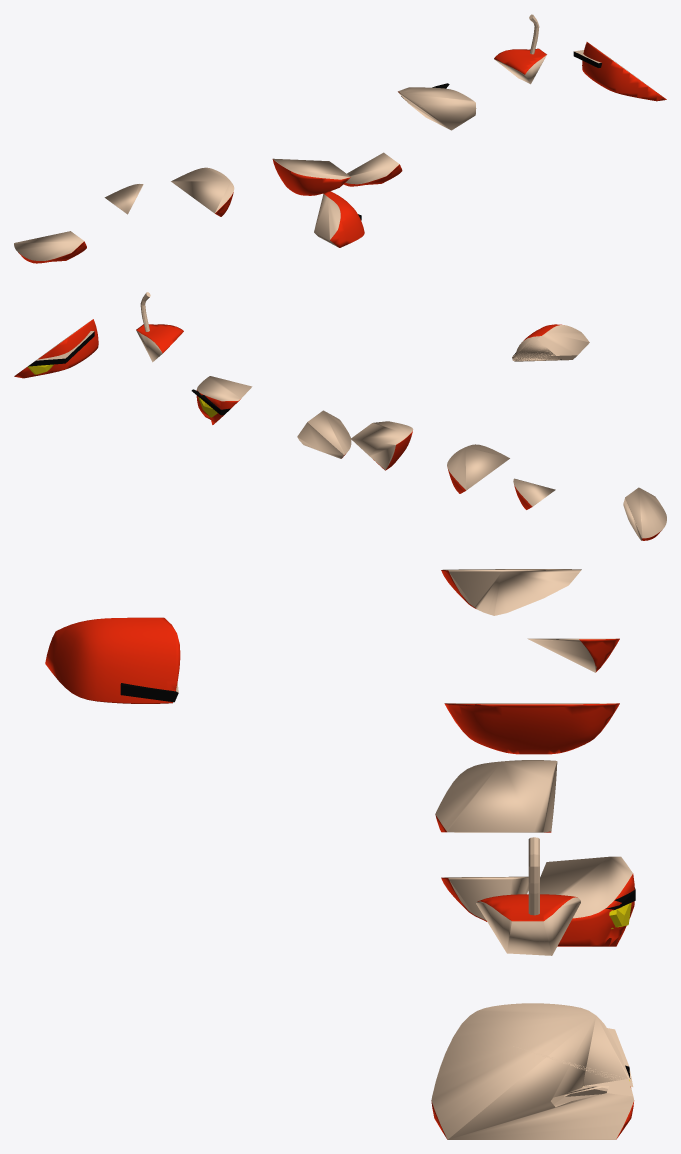
File: apple-pieces.fbx
The picture shows the model from 3 angles, top to bottom: view 1: azimuth 30°, elevation 25°; view 2: azimuth 150°, elevation 25°; view 3: azimuth 270°, elevation 25°; orthographic projection. The views are drawn at different scales.
Visible parts, largest first — view 1: p1, p9, p2, p4, p7, p5, p3, p6, p8; view 2: p4, p9, p2, p7, p6, p1, p5, p3, p8; view 3: p9, p4, p2, p7, p1, p3, p5, p6, p8.
Part boxes in pixels (x1,y1,x2,y2): p1: (398, 83, 476, 130); p9: (573, 42, 666, 101); p2: (272, 158, 350, 195); p4: (314, 191, 364, 247); p7: (171, 167, 234, 216); p5: (14, 231, 86, 263); p3: (494, 14, 546, 84); p6: (343, 152, 402, 186); p8: (104, 184, 143, 214); p4: (512, 324, 589, 361); p9: (14, 319, 98, 378); p2: (351, 421, 412, 470); p7: (447, 444, 509, 493); p6: (297, 410, 351, 458); p1: (191, 376, 252, 424); p5: (623, 487, 666, 540); p3: (136, 292, 183, 362); p8: (513, 478, 555, 509); p9: (431, 1003, 634, 1139); p4: (45, 617, 180, 703); p2: (435, 760, 557, 832); p7: (444, 703, 619, 754); p1: (540, 856, 635, 946); p3: (476, 837, 580, 955); p5: (441, 569, 581, 615); p6: (441, 876, 528, 921); p8: (527, 638, 619, 672).
Size of the model in its own units: 4722 by 874 by 1936.
